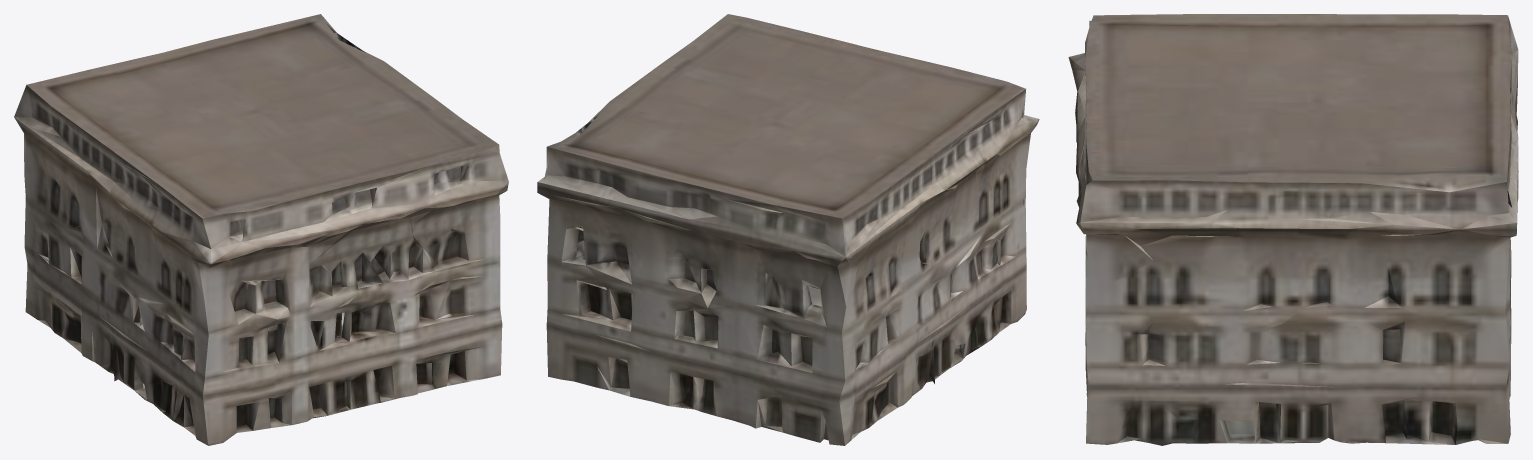
Rendered from street_historic_building.glb.
3 renders of one model, left to right at view 1: azimuth 30°, elevation 25°; view 2: azimuth 150°, elevation 25°; view 3: azimuth 270°, elevation 25°, orthographic. The views are drawn at different scales.
Visible parts, largest first — view 1: turn; view 2: turn; view 3: turn.
Part boxes in pixels (x1,y1,x2,y2): turn: (14,14,508,445); turn: (537,14,1039,445); turn: (1068,14,1518,445).
Bounding box in the file's own units: 16.88 × 12 × 18.38.
Materials: 1 (1 with a texture image).
